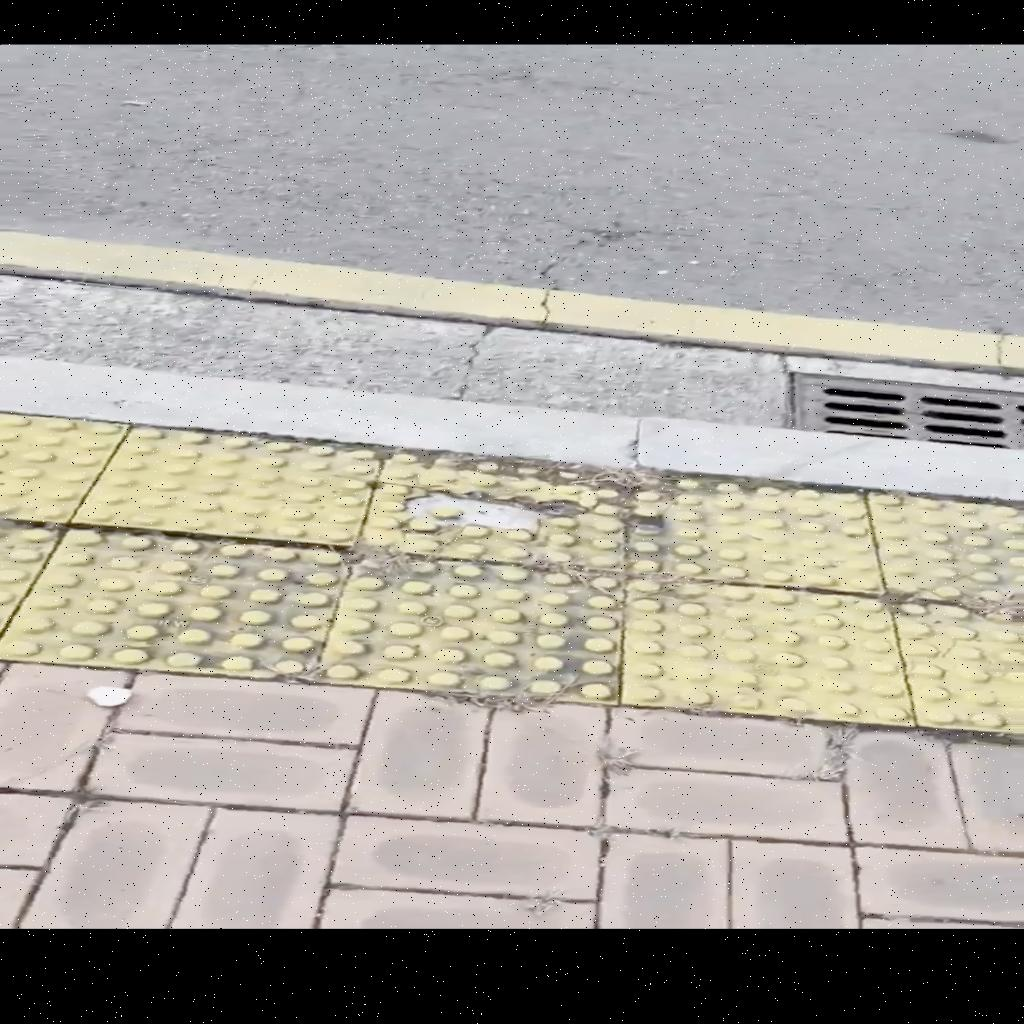Stop block broken: (360, 448, 632, 573)
Stop block normal: (618, 577, 922, 728), (74, 423, 390, 547)
